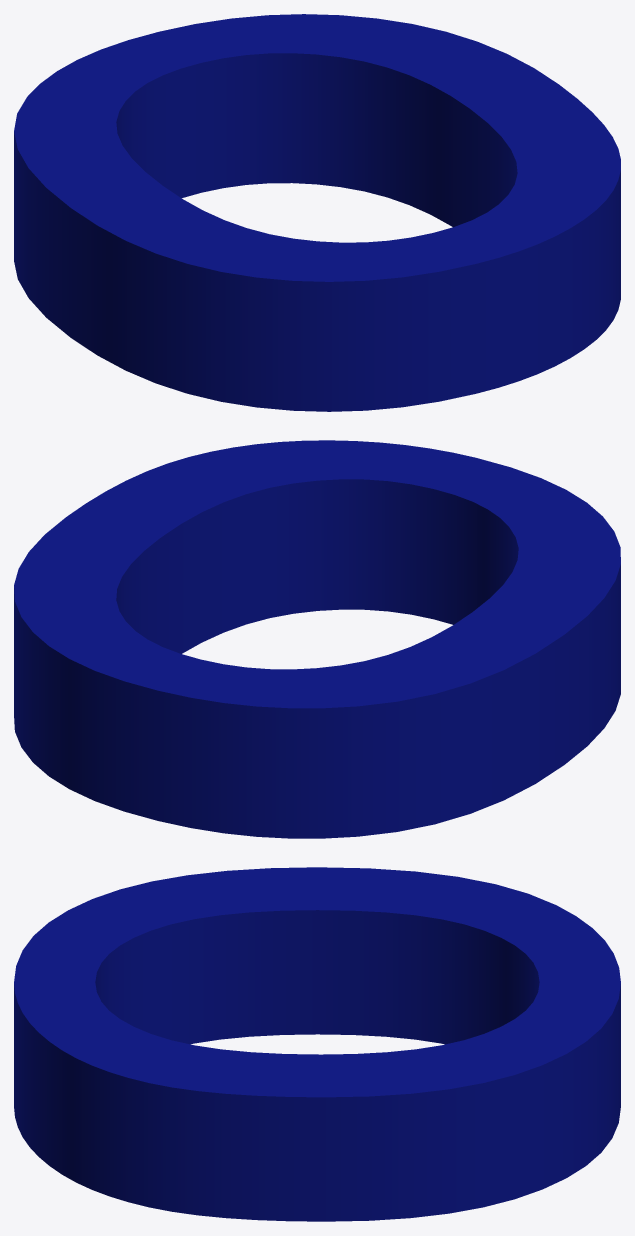
The picture shows the model from 3 angles, top to bottom: view 1: azimuth 30°, elevation 25°; view 2: azimuth 150°, elevation 25°; view 3: azimuth 270°, elevation 25°; orthographic projection. The views are drawn at different scales.
Parts seen in each view (by area): view 1: TextPlus041; view 2: TextPlus041; view 3: TextPlus041.
Boxes of the visible parts, bbox=[...] form: TextPlus041: bbox=[14, 14, 620, 411]; TextPlus041: bbox=[14, 440, 620, 838]; TextPlus041: bbox=[14, 867, 620, 1221].
Size of the model in its own units: 17.4 by 4.38 by 19.4.
